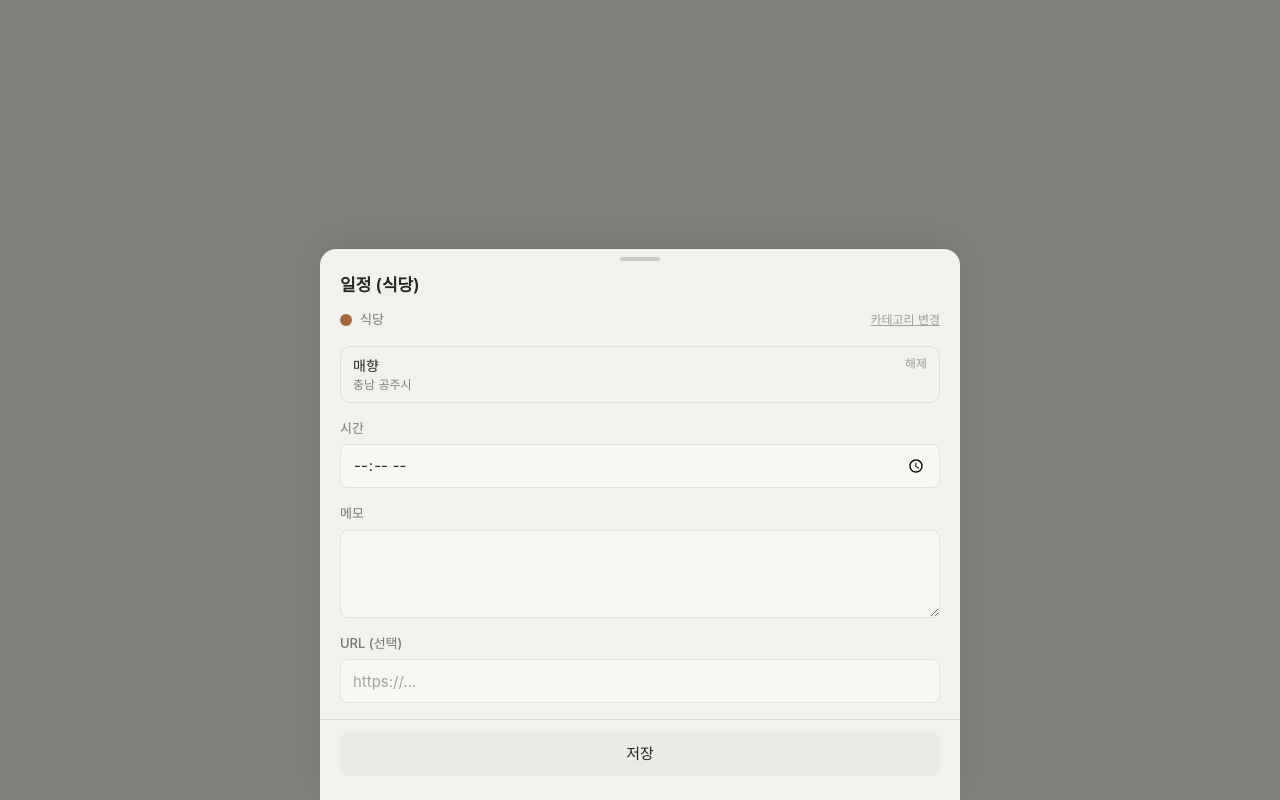
it: schedule-item-modal — 편집 중 카테고리 변경 › 카테고리만 바꿔도 기존 장소·제목이 유지되어 저장 버튼이 활성 상태다
Expected: the button "저장" is enabled, [340,732,940,776]
Note: 카테고리 변경 → 카페 선택
Click the button "카테고리 변경" at coordinates (905, 320), box [870,311,940,329]
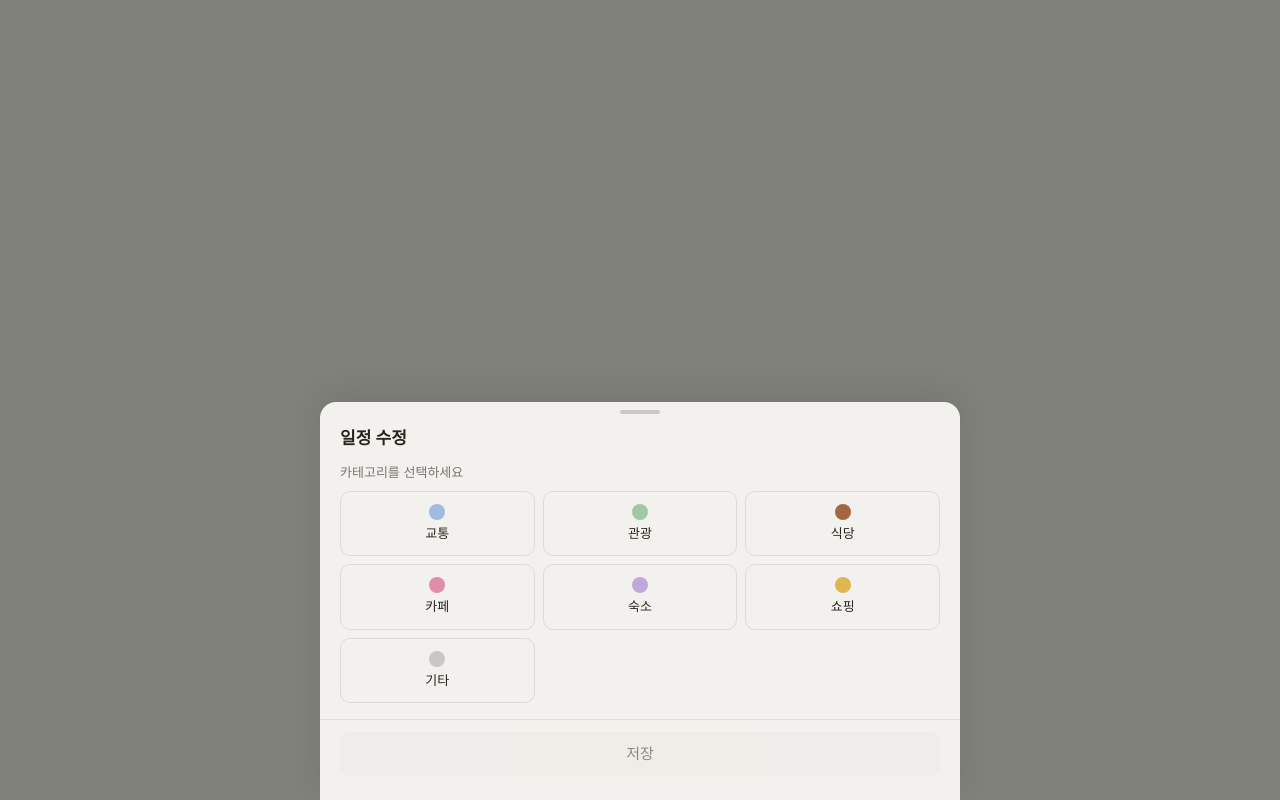
Click the radio button labelled "카페" at coordinates (437, 597), box [340,564,535,630]
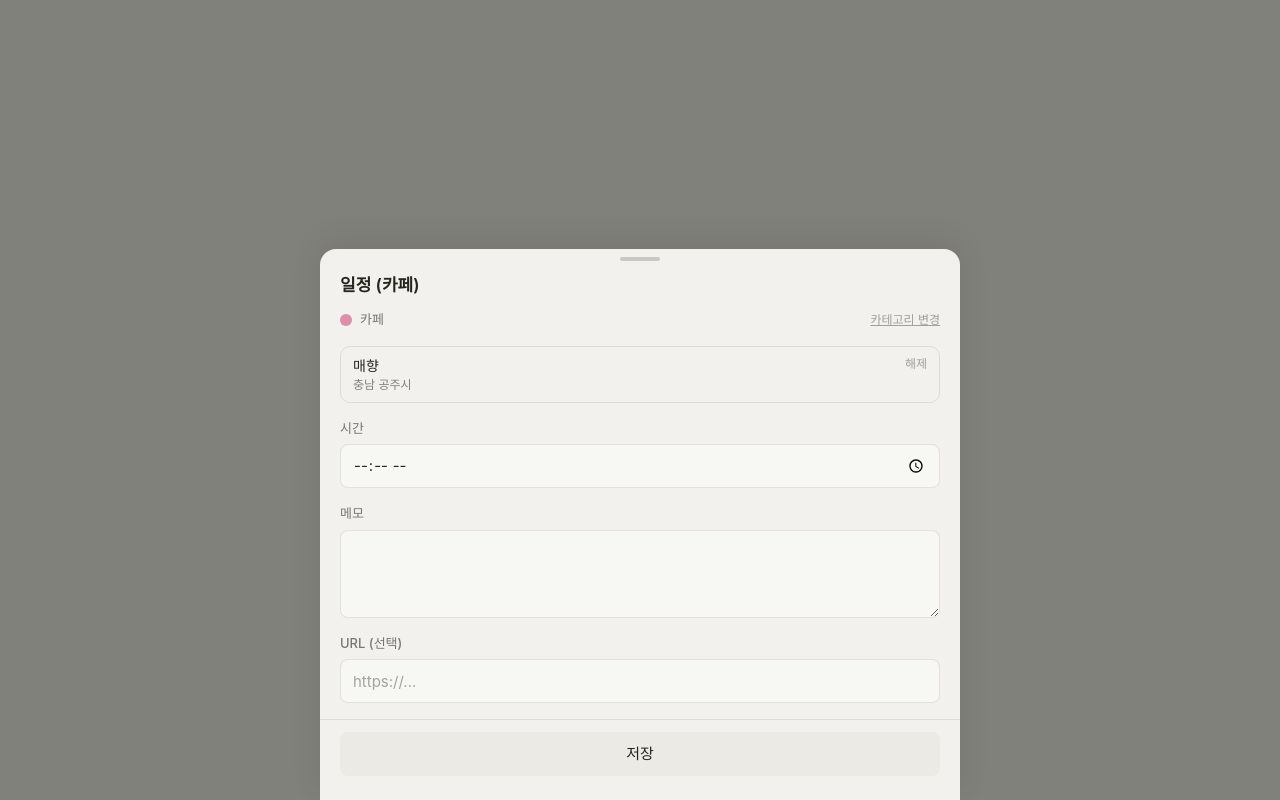
Expected: the text "충남 공주시" is shown, [353,376,412,394]
Expected: the button "저장" is enabled, [340,732,940,776]
